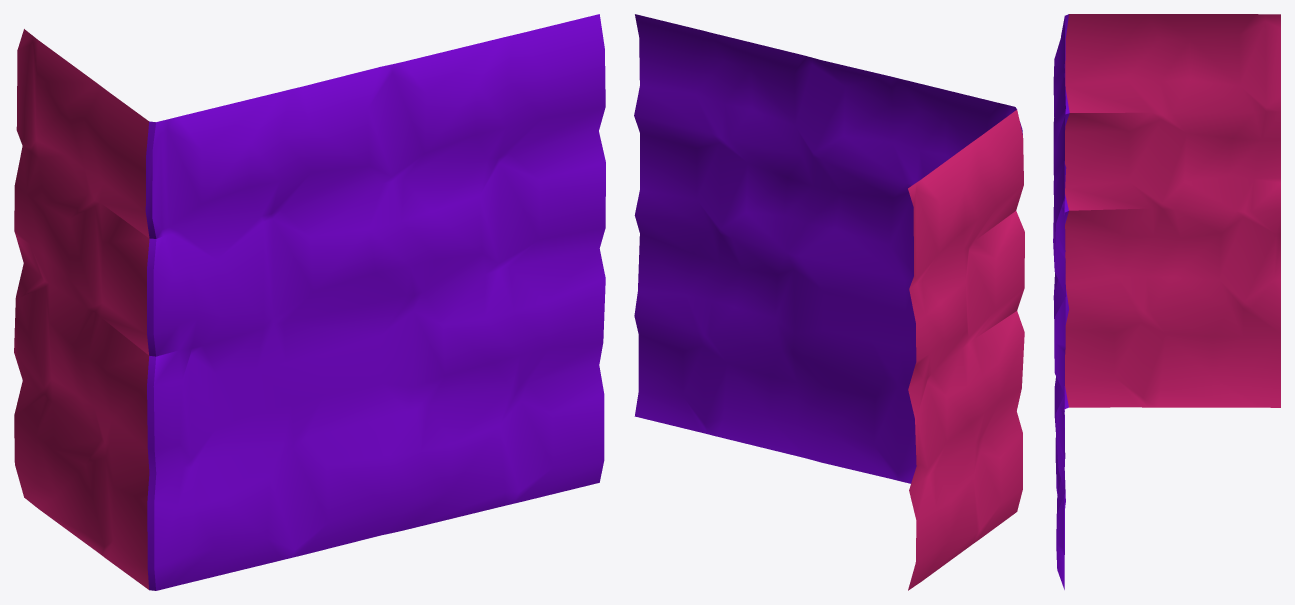
The model's file is VarientBrickCornerPiece.fbx.
The picture shows the model from 3 angles, left to right: view 1: azimuth 30°, elevation 25°; view 2: azimuth 150°, elevation 25°; view 3: azimuth 270°, elevation 25°; orthographic projection. The views are drawn at different scales.
Visible parts, largest first — view 1: VarientBrickCornerPiece; view 2: VarientBrickCornerPiece; view 3: VarientBrickCornerPiece.
Boxes of the visible parts, x1=… form: VarientBrickCornerPiece: x1=14, y1=14, x2=605, y2=590; VarientBrickCornerPiece: x1=634, y1=14, x2=1024, y2=590; VarientBrickCornerPiece: x1=1053, y1=14, x2=1280, y2=589.
Size of the model in its own units: 103 by 100 by 52.47.
